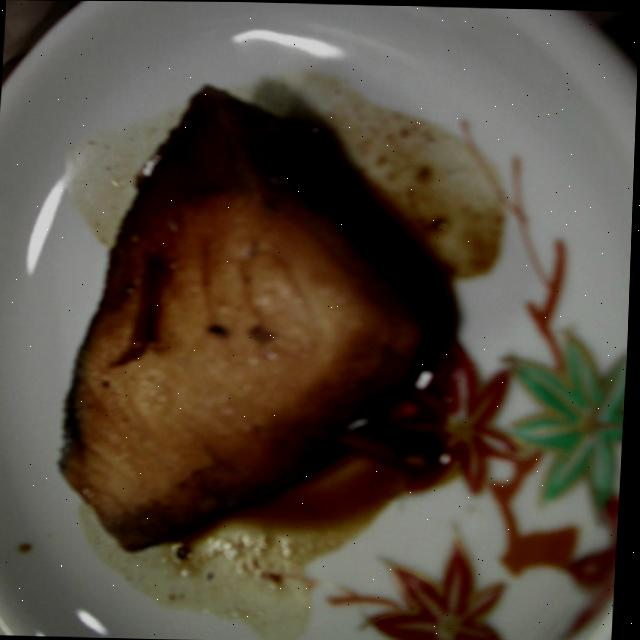熟制海鲜: (34, 73, 474, 559)
